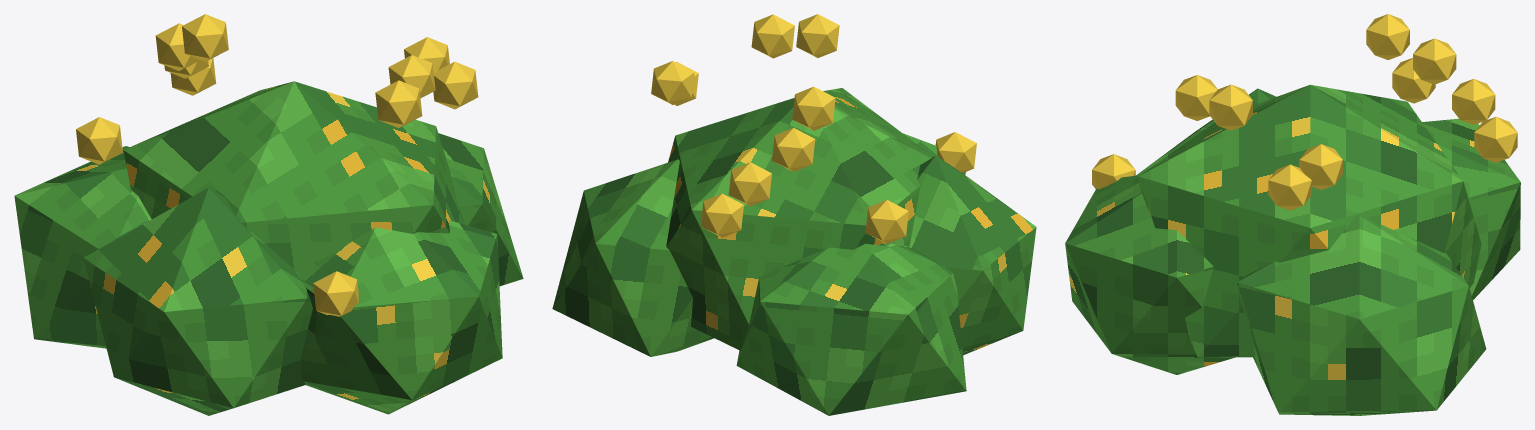
File: bush_yellow.glb
3 views of the same model, side by side, from view 1: azimuth 30°, elevation 25°; view 2: azimuth 150°, elevation 25°; view 3: azimuth 270°, elevation 25° (orthographic). The views are drawn at different scales.
Parts seen in each view (by area): view 1: bush_yellow; view 2: bush_yellow; view 3: bush_yellow.
Boxes of the visible parts, x1,y1,x2,y2 form: bush_yellow: [14, 14, 523, 415]; bush_yellow: [552, 14, 1036, 415]; bush_yellow: [1065, 14, 1520, 415].
Bounding box in the file's own units: 1.7 × 1.27 × 1.61.
Materials: 2 (1 with a texture image).
